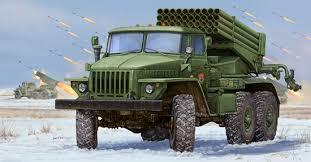MIL_SAM_TEL: (61, 8, 284, 151), (13, 72, 58, 100)
